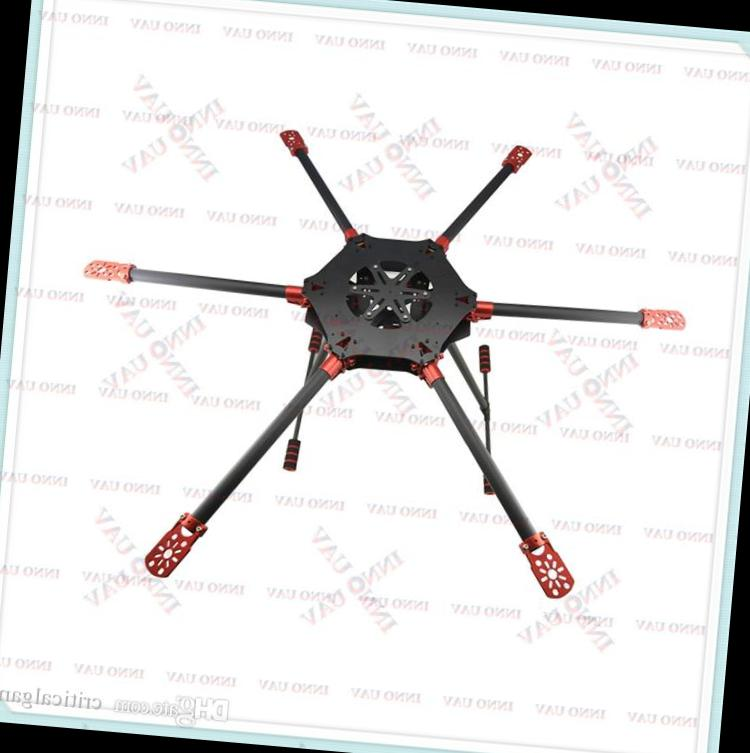drone: (31, 79, 726, 634)
